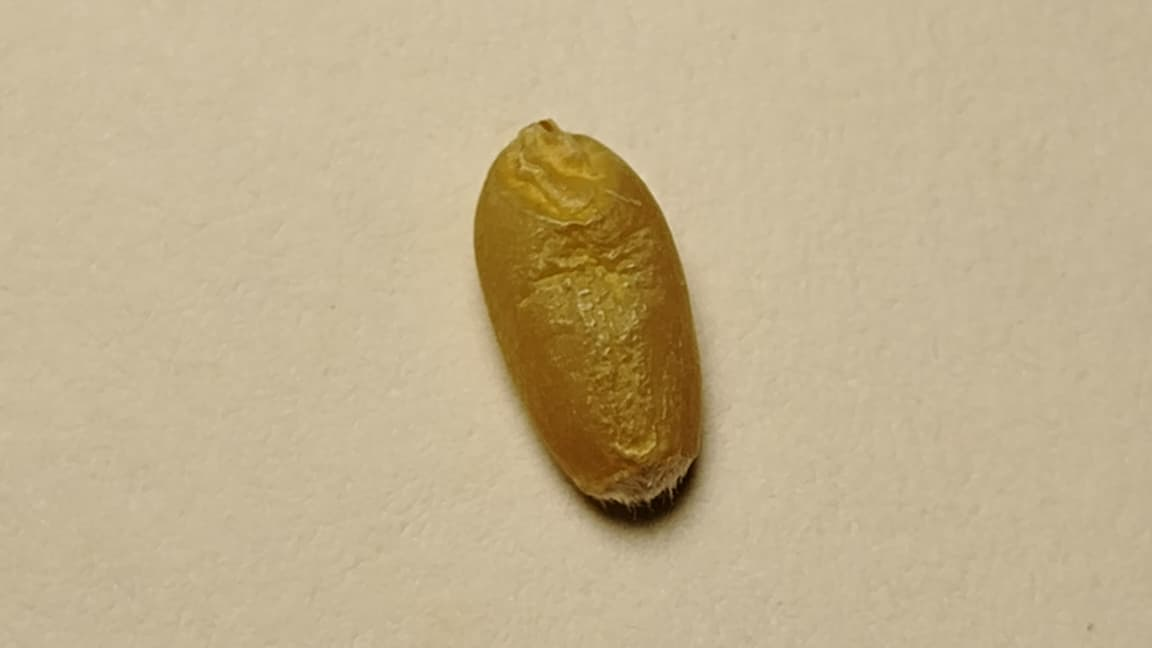healthy: (475, 120, 700, 503)
